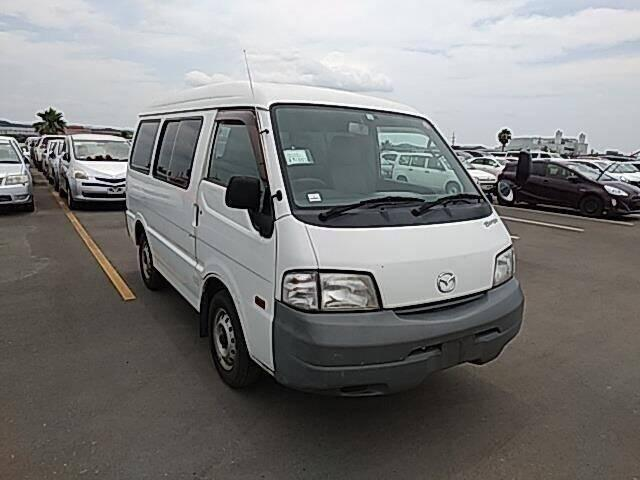van: (123, 95, 530, 386)
